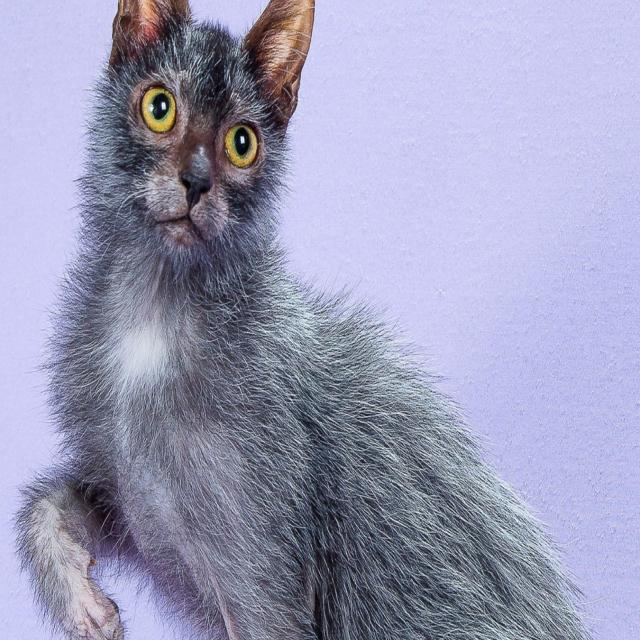Lykoi: (11, 0, 612, 640)
